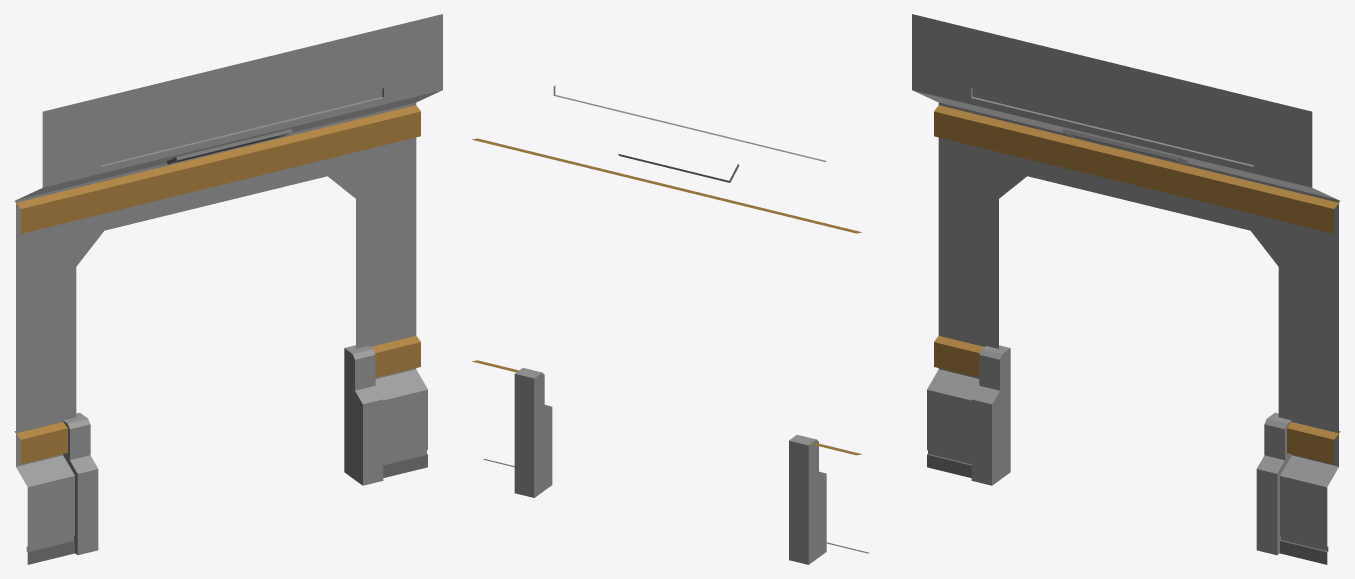
Rendered from DoorDouble_Wall_SideB.glb.
3 renders of one model, left to right at view 1: azimuth 30°, elevation 25°; view 2: azimuth 150°, elevation 25°; view 3: azimuth 330°, elevation 25°, orthographic. The views are drawn at different scales.
Parts seen in each view (by area): view 1: DoorDouble_Wall_SideB_Plane.025; view 2: DoorDouble_Wall_SideB_Plane.025; view 3: DoorDouble_Wall_SideB_Plane.025.
Part boxes in pixels (x1=…): DoorDouble_Wall_SideB_Plane.025: x1=14, y1=14, x2=442, y2=564; DoorDouble_Wall_SideB_Plane.025: x1=471, y1=85, x2=869, y2=564; DoorDouble_Wall_SideB_Plane.025: x1=912, y1=14, x2=1340, y2=564.
Size of the model in its own units: 4 by 4.43 by 0.5307.
